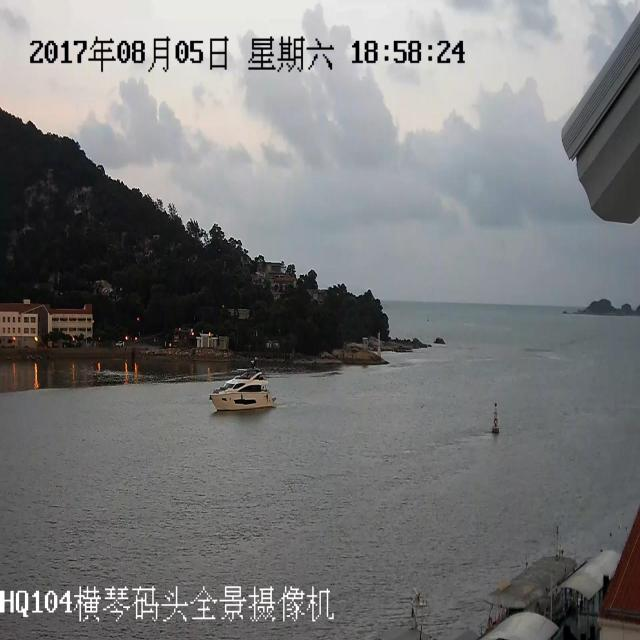buoy: (478, 387, 505, 446)
passenger ship: (205, 358, 272, 426)
reef: (572, 276, 640, 324)
